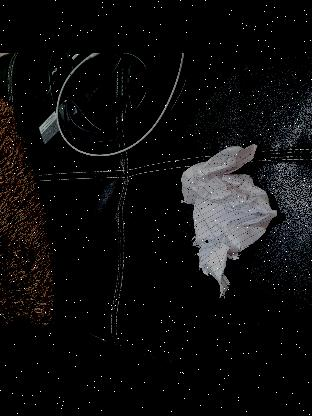Others: (182, 139, 276, 299)
